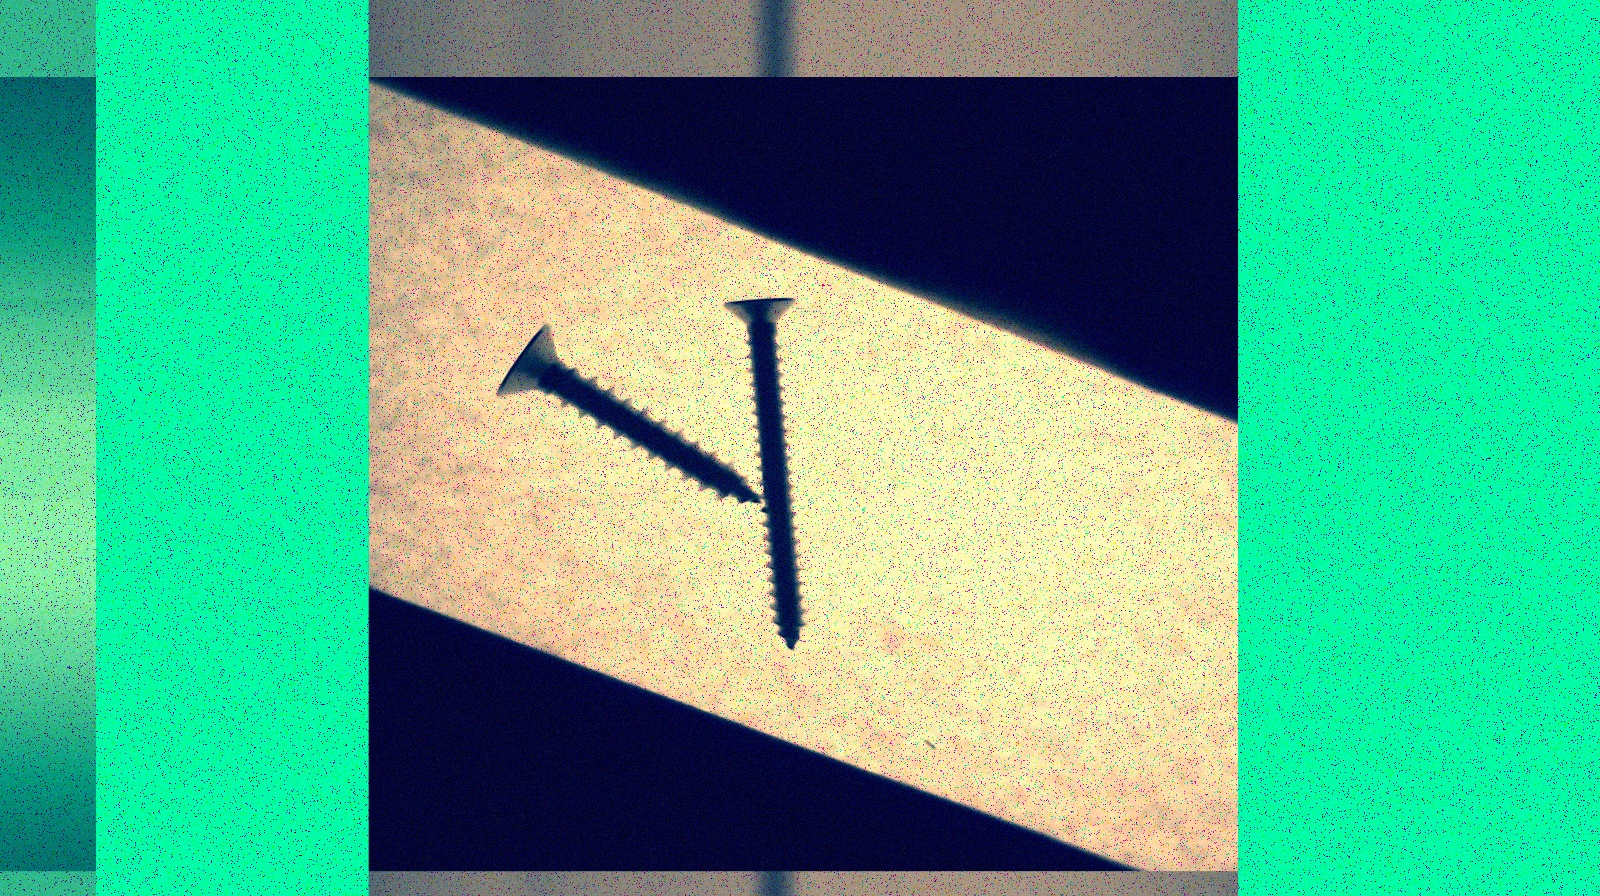S001: (490, 318, 765, 507)
S002: (709, 288, 812, 654)
